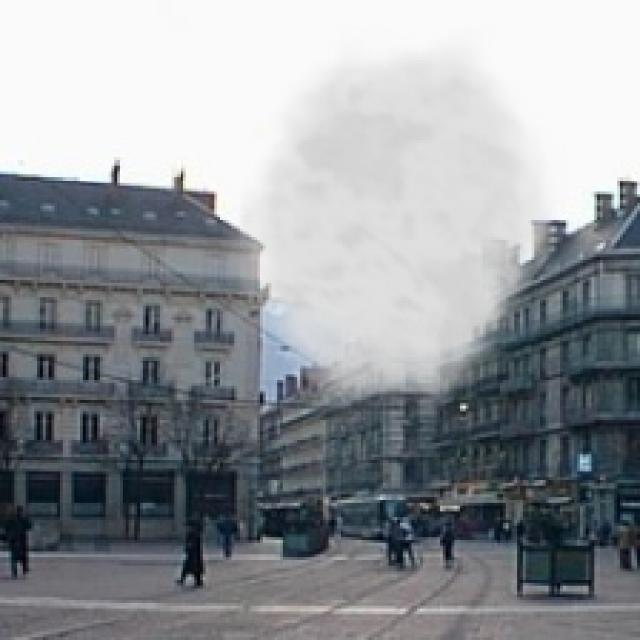smoke: (220, 26, 566, 417)
